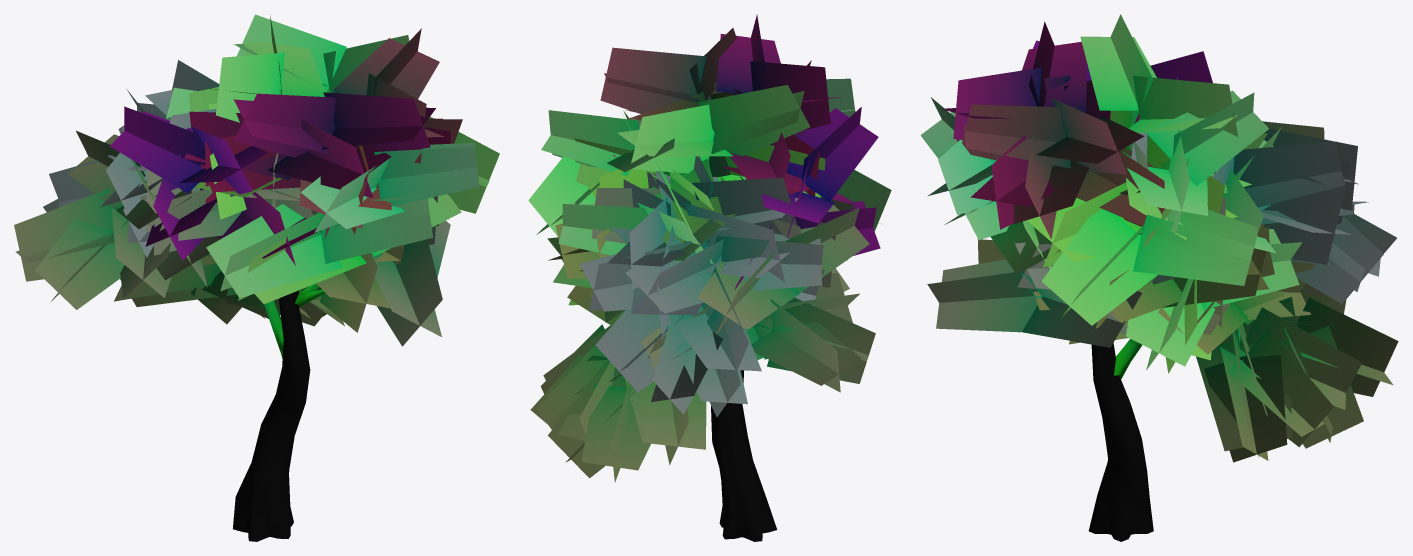
The model's file is M_Realistic12_1.fbx.
3 renders of one model, left to right at view 1: azimuth 30°, elevation 25°; view 2: azimuth 150°, elevation 25°; view 3: azimuth 270°, elevation 25°, orthographic. The views are drawn at different scales.
Parts seen in each view (by area): view 1: Tree_1; view 2: Tree_1; view 3: Tree_1.
Boxes of the visible parts, bbox=[...] form: Tree_1: bbox=[14, 14, 499, 541]; Tree_1: bbox=[528, 14, 891, 541]; Tree_1: bbox=[920, 14, 1398, 541].
Bounding box in the file's own units: 1300 × 1516 × 1335.
